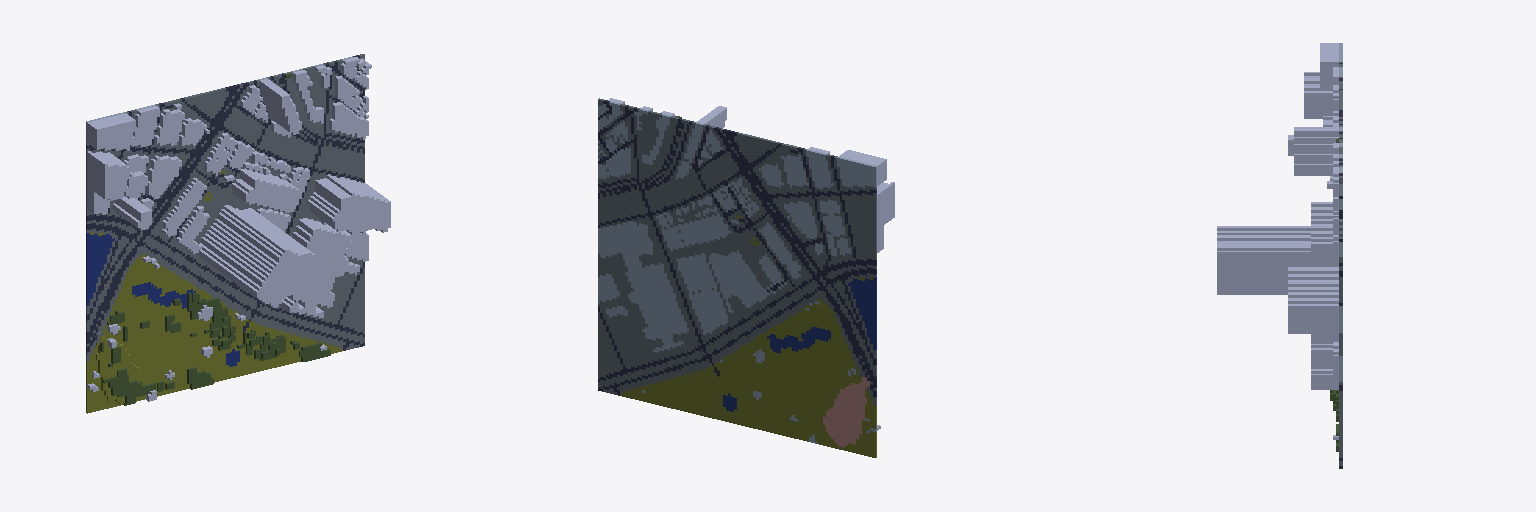
File: voxcity_test.obj
The picture shows the model from 3 angles: view 1: azimuth 30°, elevation 25°; view 2: azimuth 150°, elevation 25°; view 3: azimuth 270°, elevation 25°; orthographic projection.
Visible parts, largest first — view 1: object 1; view 2: object 1; view 3: object 1.
Part boxes in pixels (left/top/right/bottom): object 1: left=86, top=54, right=390, bottom=413; object 1: left=598, top=98, right=894, bottom=457; object 1: left=1217, top=43, right=1342, bottom=468.
Size of the model in its own units: 500 by 500 by 195.